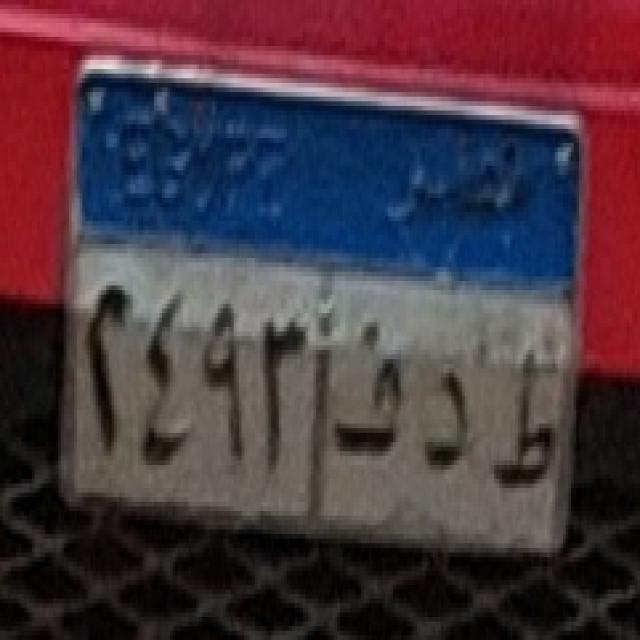2: (72, 269, 140, 459)
3: (254, 304, 312, 476)
4: (135, 283, 200, 477)
9: (191, 294, 256, 474)
F: (328, 312, 406, 463)
Taa: (492, 338, 566, 508)
daal: (422, 354, 477, 486)
